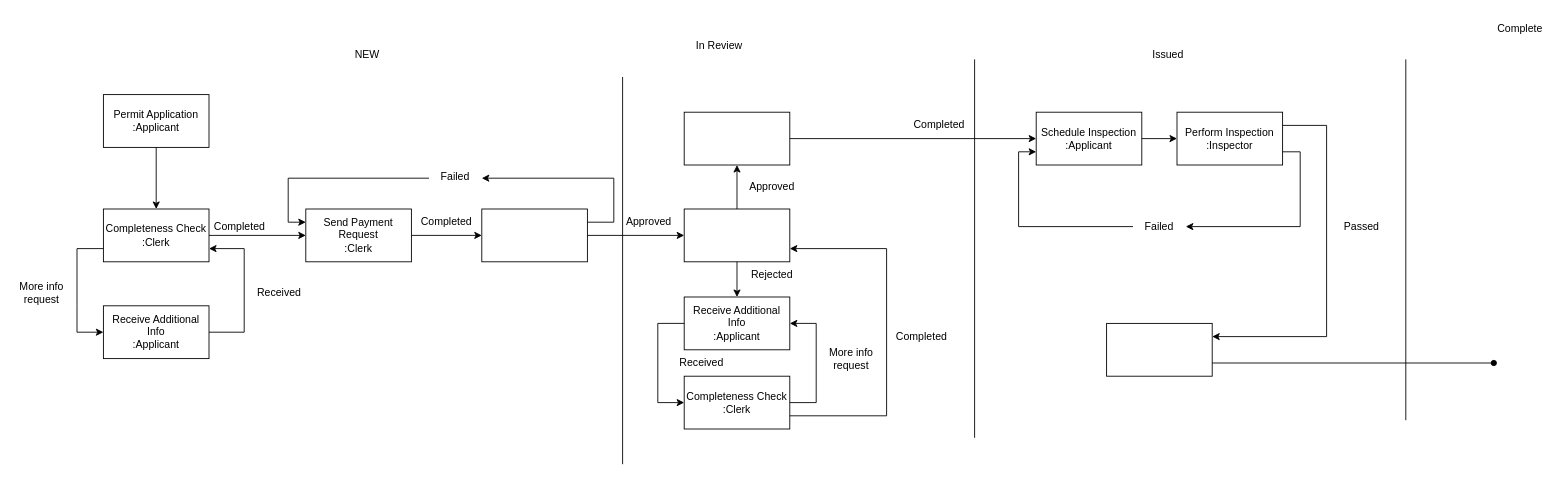
Image size: 1561x480. Some labels were removed from this diagram. The shapes that lost their labels are listed below. From the top down, each one's box as (x1, y1, x2, y2) in pixels, then its label:
(683, 111, 790, 165): Issue Permit :Clerk
(481, 208, 587, 262): Pay Payment Request :Applicant
(683, 208, 790, 262): Review Application :Reviewer
(1106, 323, 1212, 376): Complete Permit :Clerk
